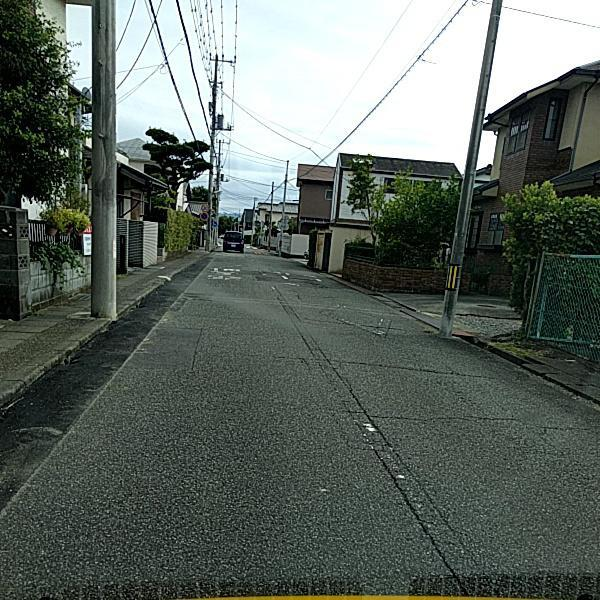D10: (364, 400, 582, 427), (331, 354, 498, 379), (309, 315, 405, 334)
